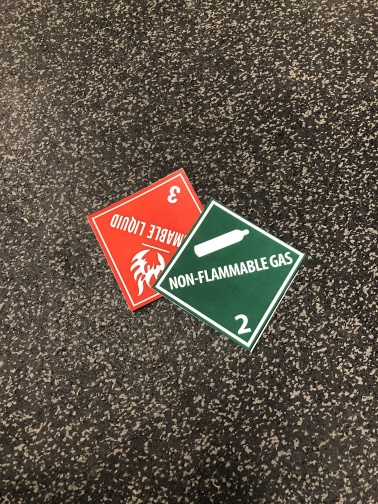FlammableLiquid: (86, 166, 204, 311)
NonFlammableGas: (152, 198, 307, 351)
